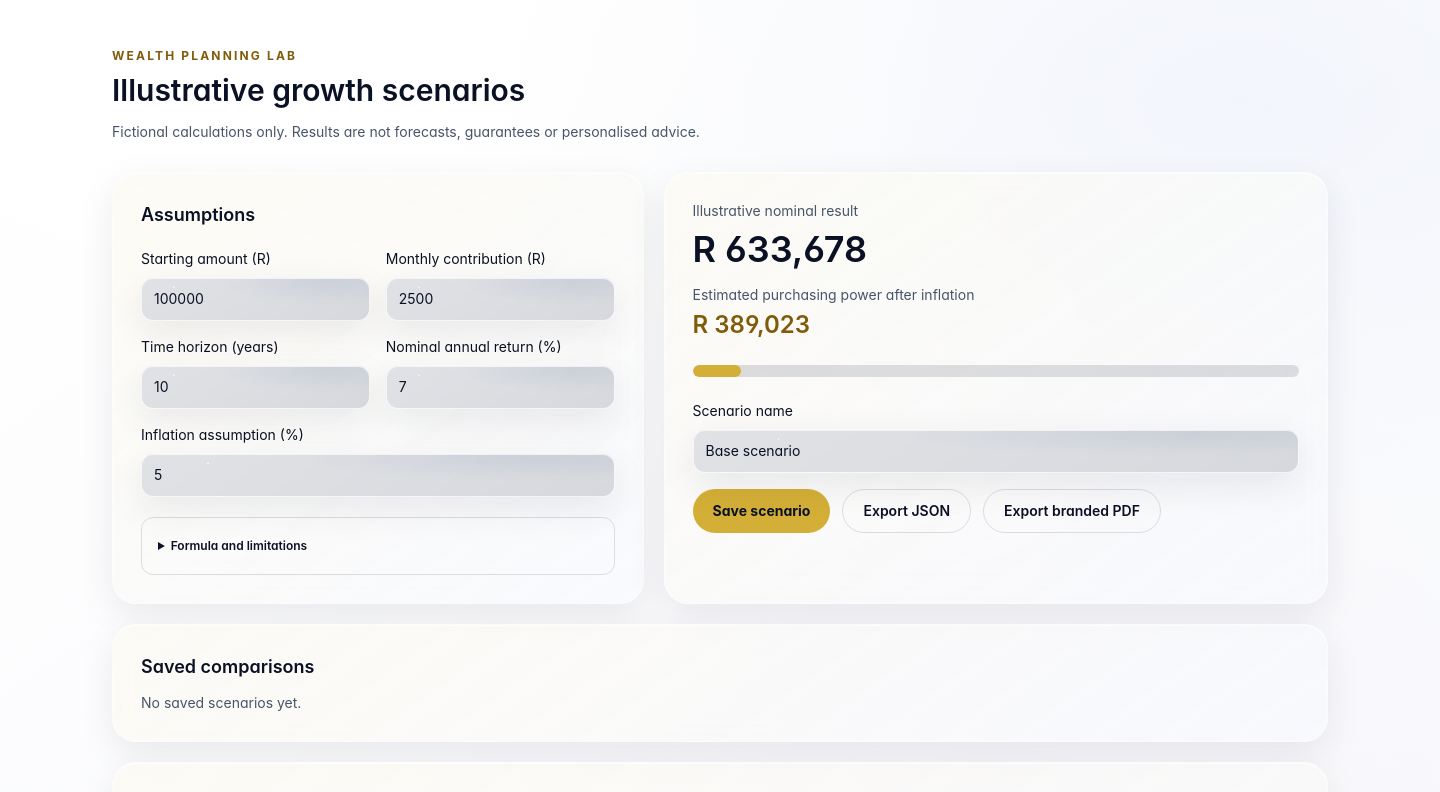
Test: WealthPlanningLab persistence feedback › reports hosted persistence failures while retaining the local scenario
The image size is (1440, 792).
Click the button "Save scenario": (761, 511) [692,489,830,533]
(page scrolled)
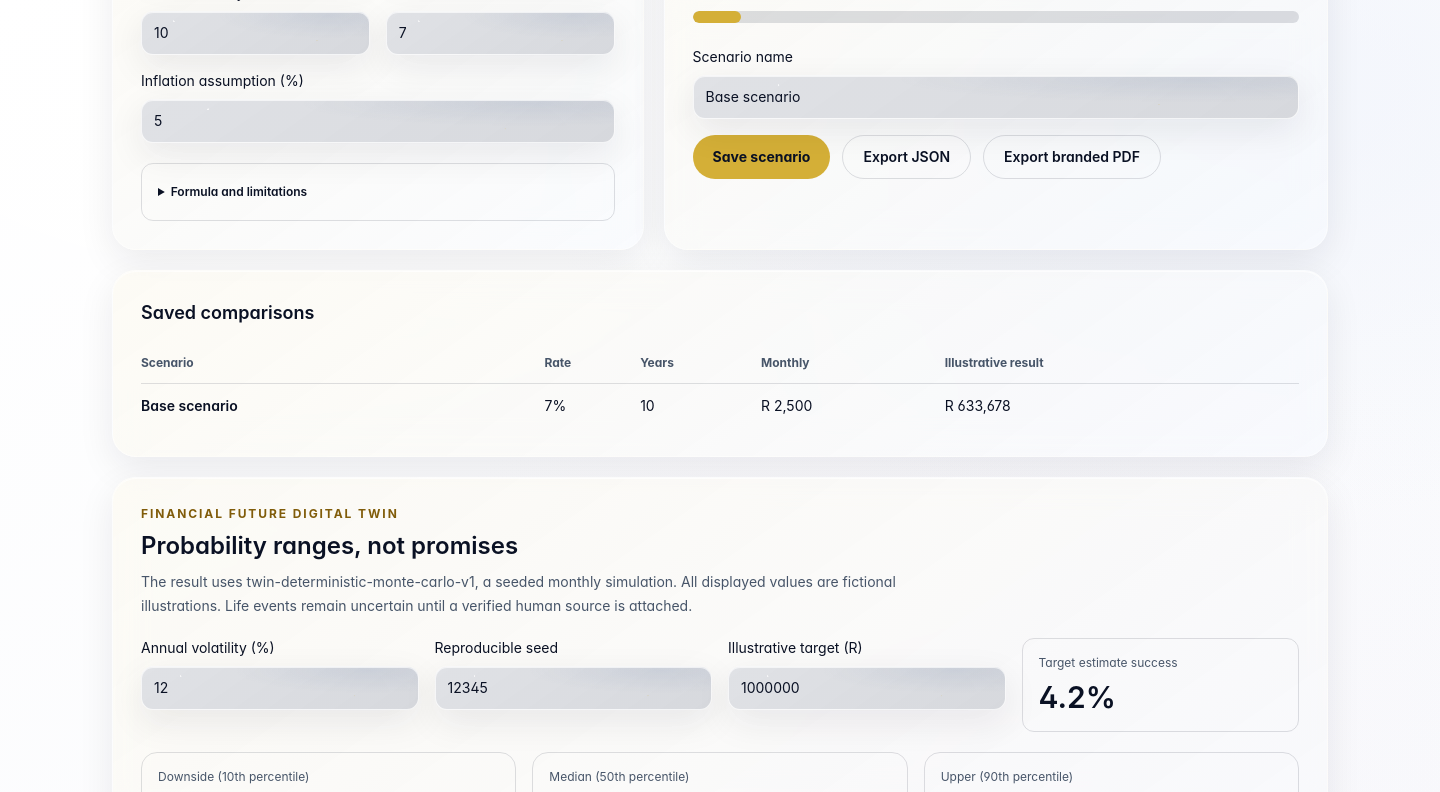
Check: the text "Base scenario" is shown, box [141,384,544,428]
